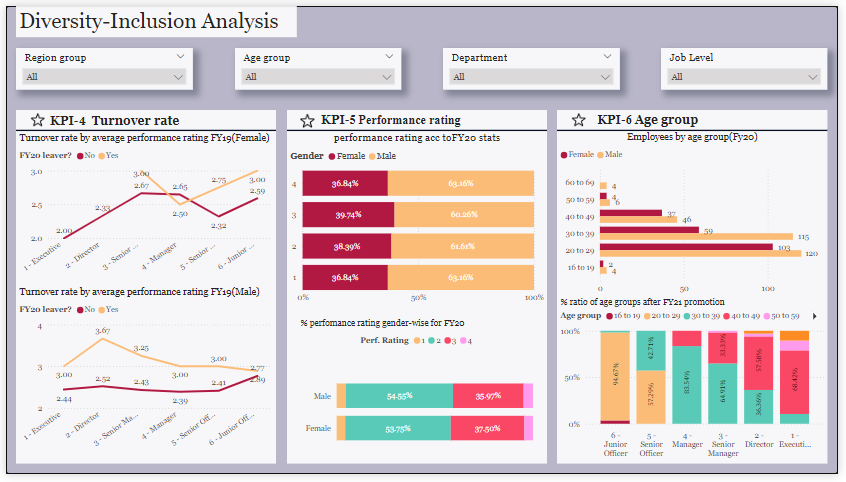

Layout of this report page (visuals, bound fields, positions):
{"tool":"powerbi","page":{"name":"KPI 4-6","canvas":[1280,720],"ordinal":1},"visuals":[{"type":"textbox","box":[16,0,432,48],"z":0},{"type":"slicer","fields":{"Values":["Pharma Group AG.Department @01.07.2020"]},"box":[672,64,272,64],"z":1000},{"type":"slicer","fields":{"Values":["Pharma Group AG.Age group"]},"box":[352,64,256,64],"z":2000},{"type":"slicer","fields":{"Values":["Pharma Group AG.Job Level after FY20 promotions"]},"box":[1008,64,256,64],"z":3000},{"type":"textbox","box":[16,160,400,544],"z":4000},{"type":"image","box":[32,160,32,30],"z":5000},{"type":"shape","box":[16,176,400,32],"z":6000},{"type":"textbox","box":[432,160,400,544],"z":7000},{"type":"textbox","box":[848,160,416,544],"z":8000},{"type":"shape","box":[432,176,400,32],"z":9000},{"type":"shape","box":[848,176,416,32],"z":10000},{"type":"image","box":[448,160,32,32],"z":11000},{"type":"image","box":[864,160,32,30],"z":12000},{"type":"slicer","fields":{"Values":["Pharma Group AG.Region group: nationality 1"]},"box":[16,64,272,64],"z":13000},{"type":"lineChart","title":"Turnover rate by average performance rating FY19(Female)","fields":{"Category":["Pharma Group AG.Job Level after FY20 promotions"],"Series":["Pharma Group AG.FY20 leaver?"],"Y":["Avg(Pharma Group AG.FY19 Performance Rating)"]},"box":[16,196,400,224],"z":14000},{"type":"lineChart","title":"Turnover rate by average performance rating FY19(Male)","fields":{"Category":["Pharma Group AG.Job Level after FY20 promotions"],"Series":["Pharma Group AG.FY20 leaver?"],"Y":["Avg(Pharma Group AG.FY19 Performance Rating)"]},"box":[16,432,400,256],"z":15000},{"type":"clusteredBarChart","title":"Employees by age group(Fy20)","fields":{"Category":["Pharma Group AG.Age group"],"Series":["Pharma Group AG.Gender"],"Y":["CountNonNull(Pharma Group AG.Age group)"]},"box":[848,194,416,256],"z":16000},{"type":"hundredPercentStackedColumnChart","title":"% ratio of age groups after FY21 promotion","fields":{"Category":["Pharma Group AG.Job Level after FY21 promotions"],"Series":["Pharma Group AG.Age group"],"Y":["CountNonNull(Pharma Group AG.Job Level after FY21 promotions)"]},"box":[848,448,416,256],"z":17000},{"type":"hundredPercentStackedBarChart","title":"performance rating acc toFY20 stats","fields":{"Category":["Pharma Group AG.FY20 Performance Rating"],"Y":["CountNonNull(Pharma Group AG.Gender)"],"Series":["Pharma Group AG.Gender"]},"box":[432,192,400,272],"z":18000},{"type":"hundredPercentStackedBarChart","title":"% perfomance rating gender-wise for FY20","fields":{"Category":["Pharma Group AG.Gender"],"Y":["Sum(Pharma Group AG.FY20 Performance Rating)"],"Series":["Pharma Group AG.FY20 Performance Rating"]},"box":[448,480,368,240],"z":19000}]}

Visuals, with their boxes in screenshot pixels (x1, y1, x2, y2), scaled from the page's 1280x720 canvas onto the 846x482 screenshot:
textbox: bbox(11, 0, 296, 32)
slicer - Pharma Group AG.Department @01.07.2020: bbox(444, 43, 624, 86)
slicer - Pharma Group AG.Age group: bbox(233, 43, 402, 86)
slicer - Pharma Group AG.Job Level after FY20 promotions: bbox(666, 43, 835, 86)
textbox: bbox(11, 107, 275, 471)
image: bbox(21, 107, 42, 127)
shape: bbox(11, 118, 275, 139)
textbox: bbox(286, 107, 550, 471)
textbox: bbox(560, 107, 835, 471)
shape: bbox(286, 118, 550, 139)
shape: bbox(560, 118, 835, 139)
image: bbox(296, 107, 317, 129)
image: bbox(571, 107, 592, 127)
slicer - Pharma Group AG.Region group: nationality 1: bbox(11, 43, 190, 86)
"Turnover rate by average performance rating FY19(Female)" lineChart: bbox(11, 131, 275, 281)
"Turnover rate by average performance rating FY19(Male)" lineChart: bbox(11, 289, 275, 461)
"Employees by age group(Fy20)" clusteredBarChart: bbox(560, 130, 835, 301)
"% ratio of age groups after FY21 promotion" hundredPercentStackedColumnChart: bbox(560, 300, 835, 471)
"performance rating acc toFY20 stats" hundredPercentStackedBarChart: bbox(286, 129, 550, 311)
"% perfomance rating gender-wise for FY20" hundredPercentStackedBarChart: bbox(296, 321, 539, 481)
